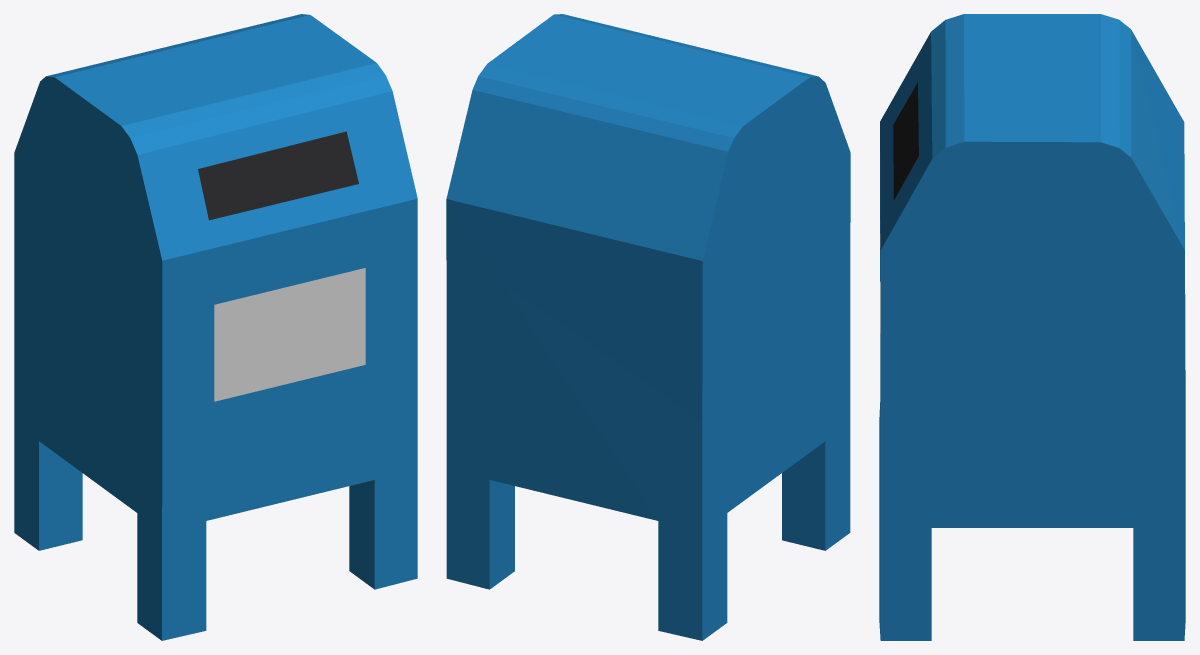
Rendered from Mailbox 2 Fractured.fbx.
3 renders of one model, left to right at view 1: azimuth 30°, elevation 25°; view 2: azimuth 150°, elevation 25°; view 3: azimuth 270°, elevation 25°, orthographic. The views are drawn at different scales.
Parts seen in each view (by area): view 1: Mailbox_02_Breaking, Mailbox_02_Breaking.001; view 2: Mailbox_02_Breaking, Mailbox_02_Breaking.001; view 3: Mailbox_02_Breaking.001, Mailbox_02_Breaking.
Part boxes in pixels (x1=…): Mailbox_02_Breaking: x1=14, y1=14, x2=417, y2=422; Mailbox_02_Breaking.001: x1=14, y1=243, x2=417, y2=640; Mailbox_02_Breaking: x1=446, y1=14, x2=850, y2=422; Mailbox_02_Breaking.001: x1=446, y1=243, x2=850, y2=640; Mailbox_02_Breaking.001: x1=879, y1=294, x2=1185, y2=640; Mailbox_02_Breaking: x1=880, y1=14, x2=1184, y2=295.
Size of the model in its own units: 39.76 by 72.15 by 40.14.
